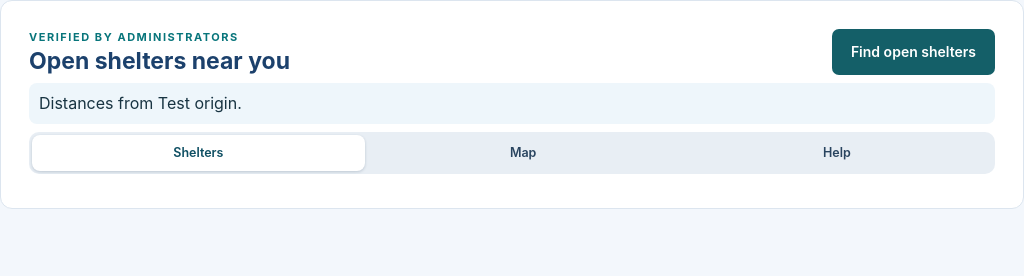
Test: rejects unavailable destination: pending
Step 1. Click the button "Find open shelters" → (913, 52), box left=832, top=29, right=995, bottom=75
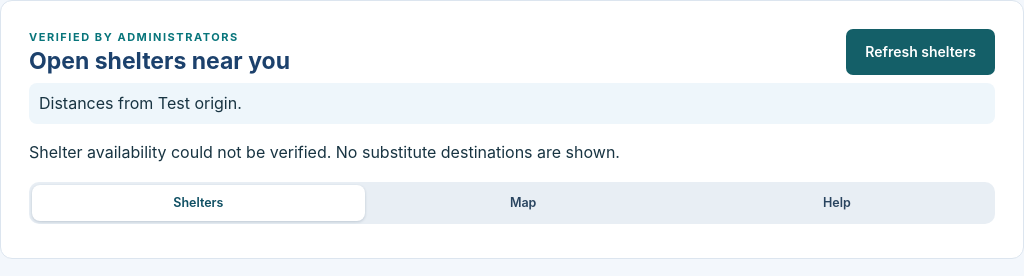
expect the text "Shelter availability could not be verified" is shown: met, box left=29, top=142, right=327, bottom=162
